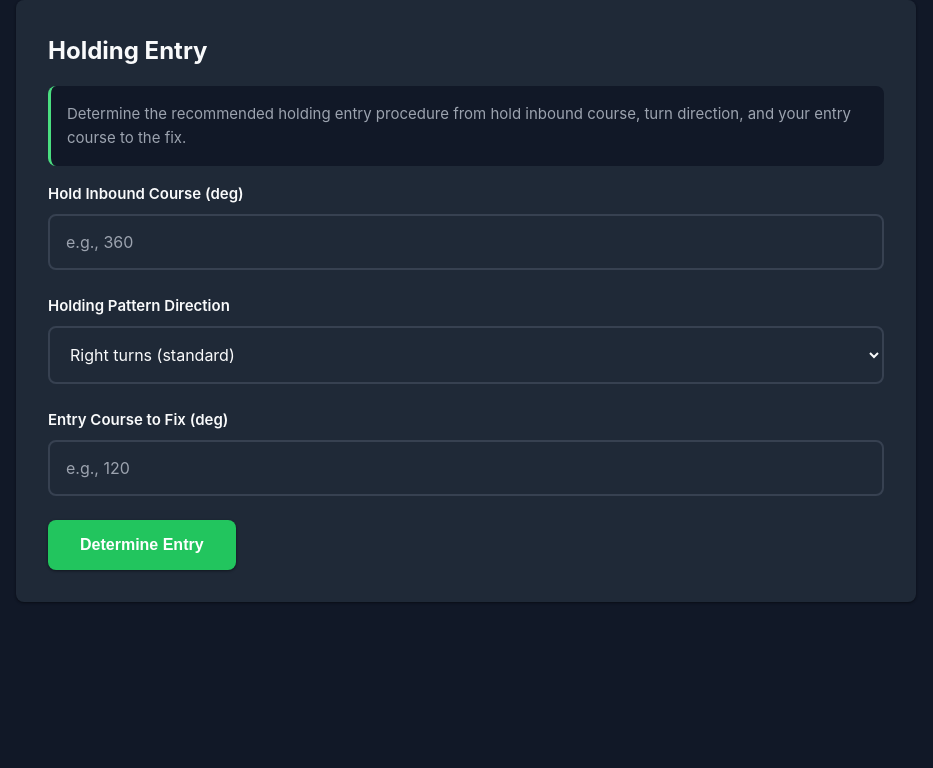
HoldingEntryComponent › does not render parallel continuation for non-parallel entries
In the number field with id "hold-inbound-course": (466, 242) [48,214,884,270], type "360"
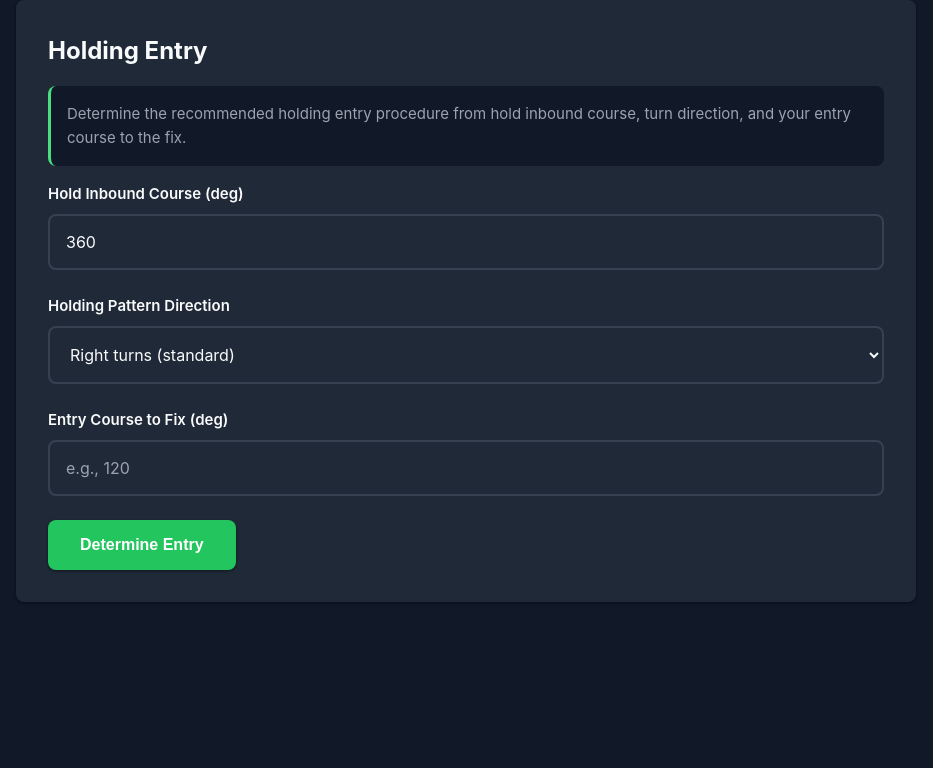
In the number field with id "entry-course": (466, 468) [48,440,884,496], type "180"
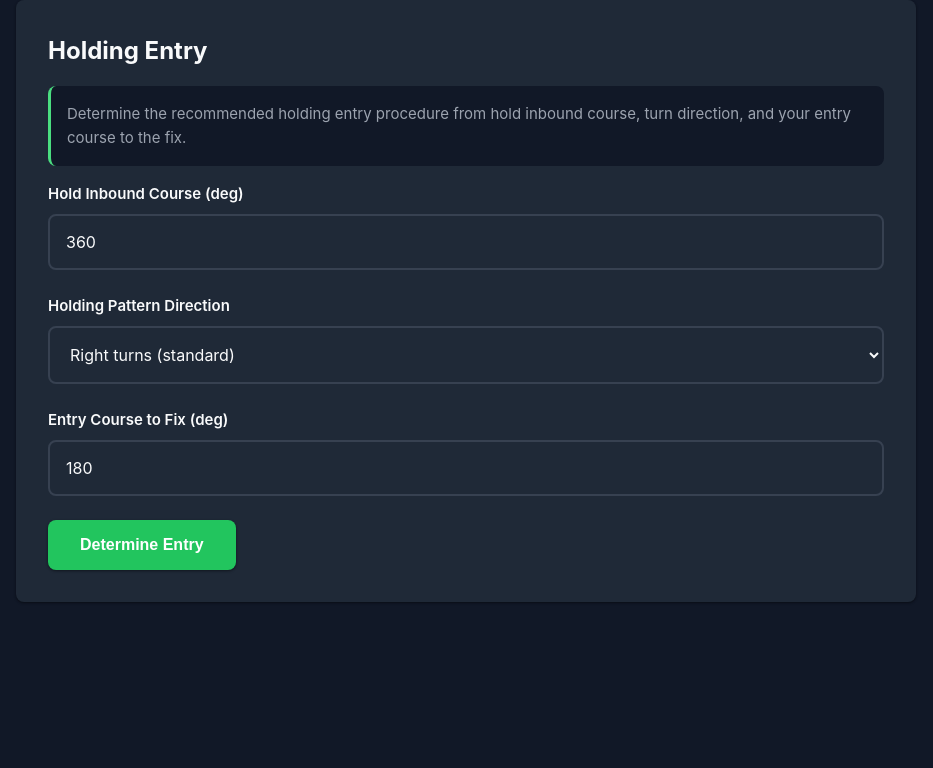
Select "Right turns (standard)" in the dropdown labelled "Holding Pattern Direction": (466, 355) [48,326,884,384]
Click the button "Determine Entry": (142, 545) [48,520,236,570]
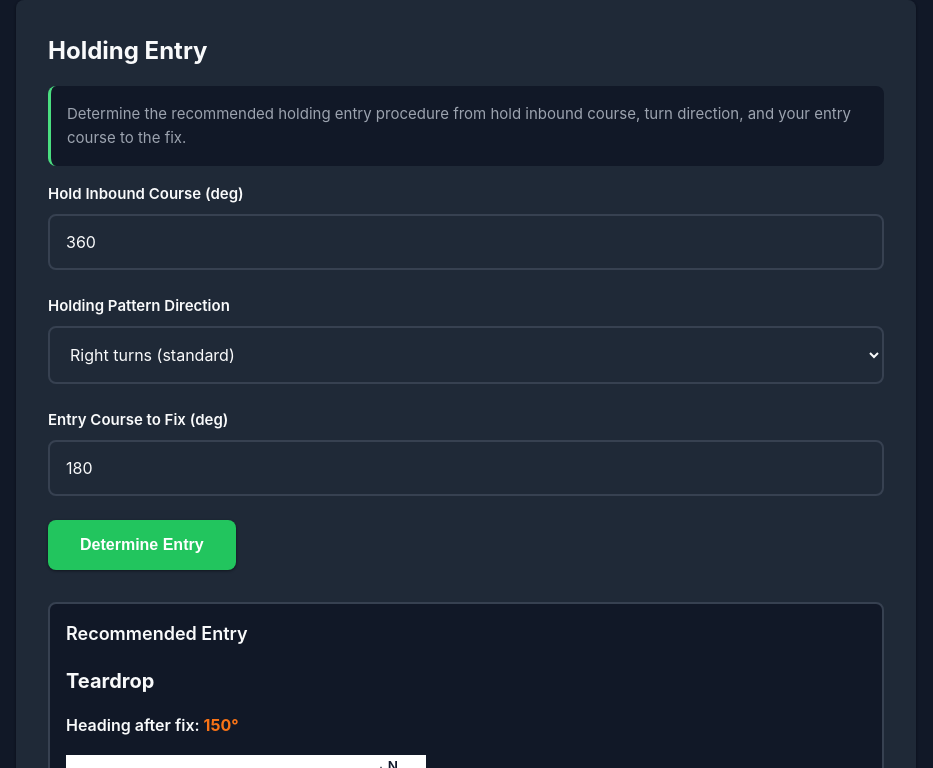
Now the text with id "entry-procedure-name" reads "Teardrop", box [66,669,154,693]
